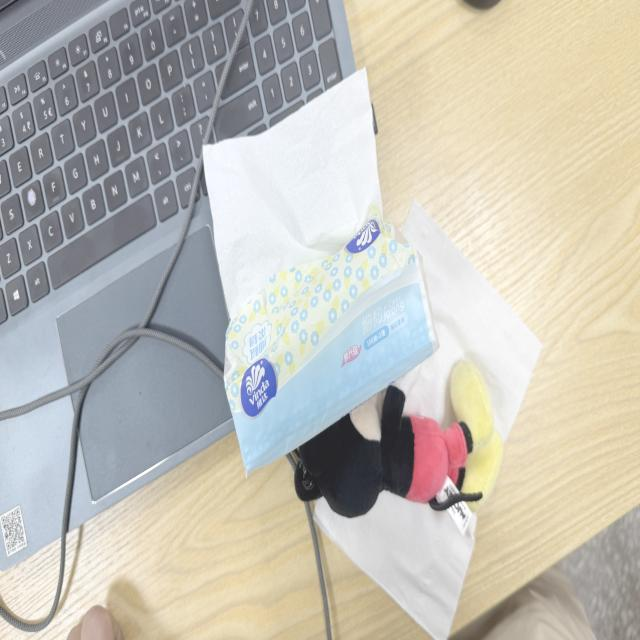tissue: (204, 70, 382, 317), (401, 201, 540, 440)
